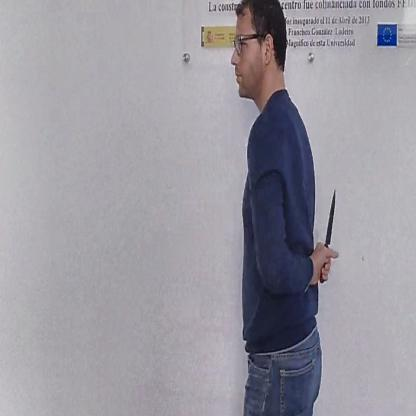knife: (317, 182, 341, 288)
